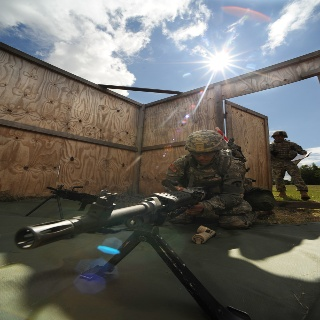rifle: (14, 178, 248, 320)
